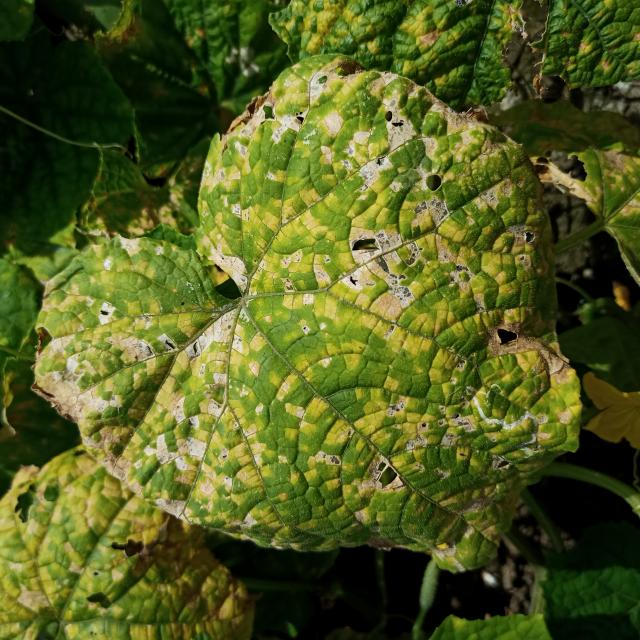disease_cucumber: (46, 67, 566, 562), (0, 465, 255, 640)
